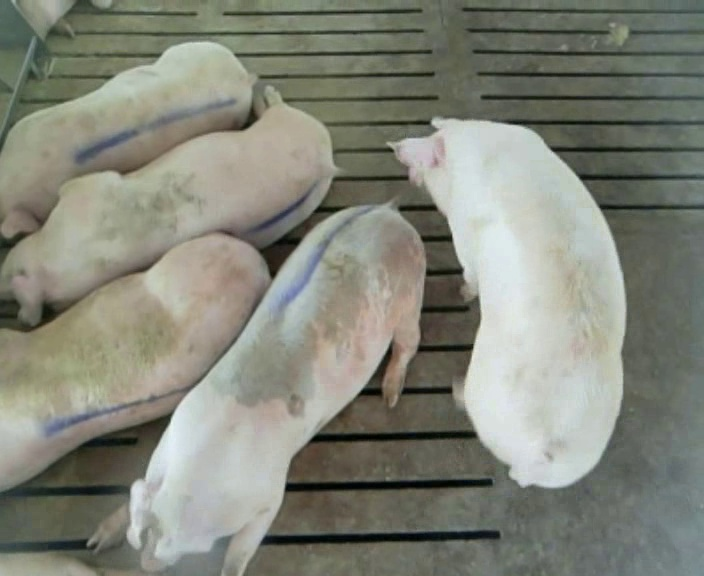pig: (391, 118, 625, 485), (0, 87, 335, 325), (0, 236, 269, 490), (0, 42, 255, 237)
